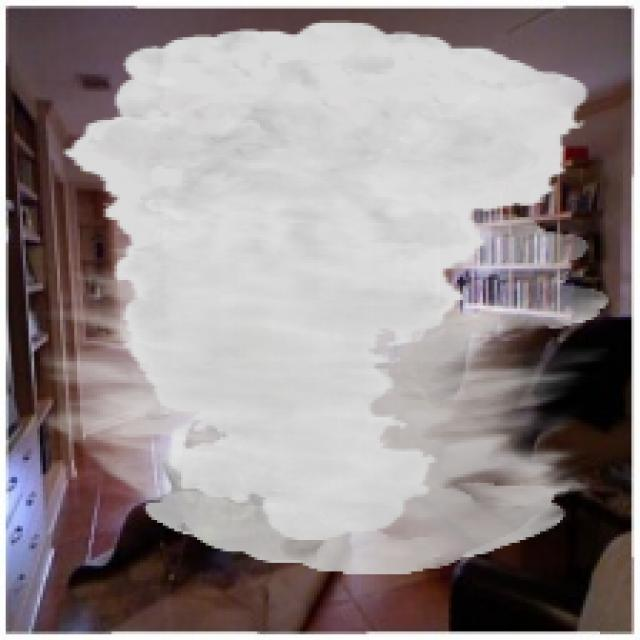smoke: (40, 20, 609, 574)
